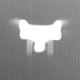plane: (8, 16, 69, 58)
